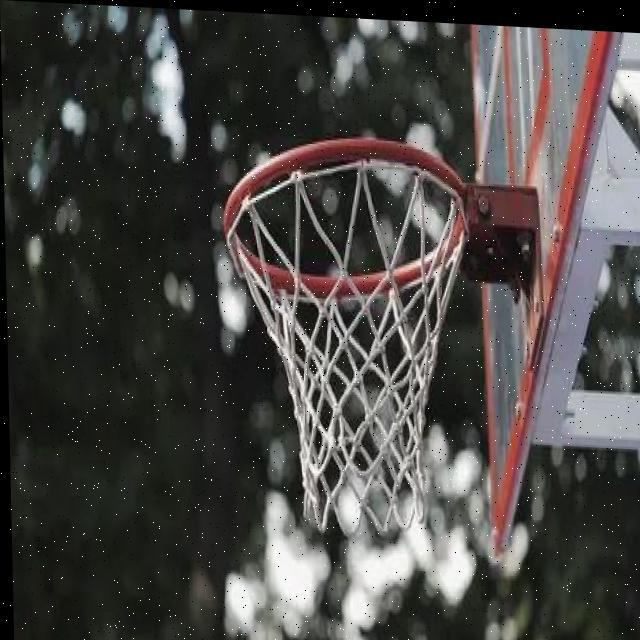hoop: (201, 162, 502, 540)
